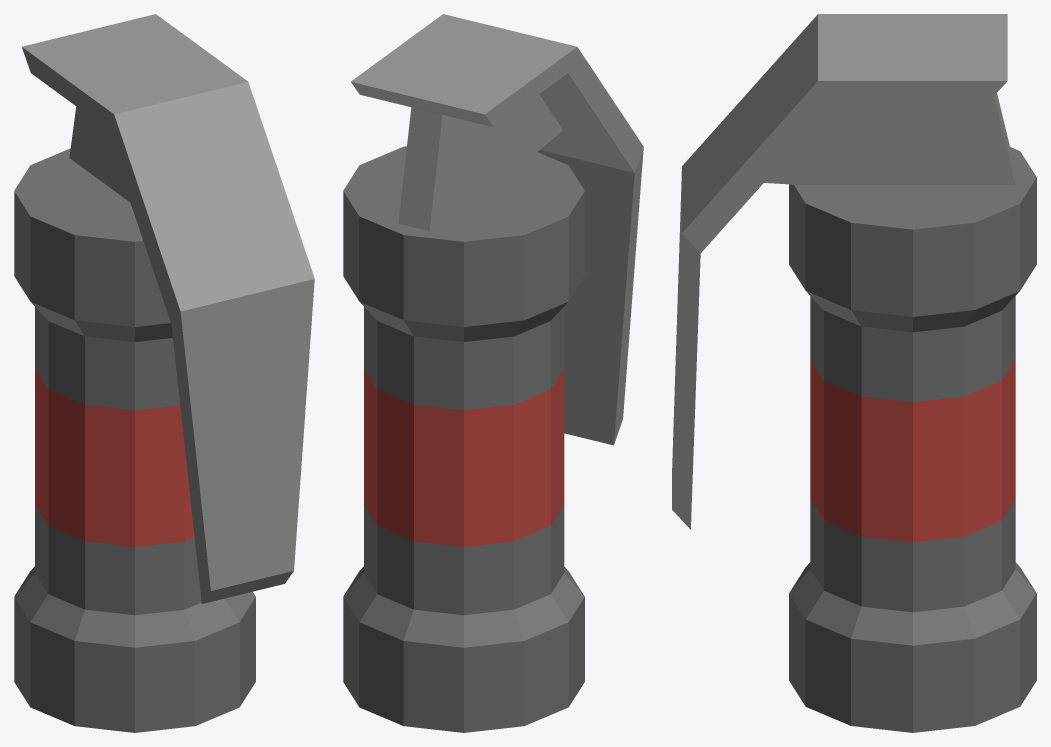
File: FlashBang.fbx
The picture shows the model from 3 angles, left to right: view 1: azimuth 30°, elevation 25°; view 2: azimuth 150°, elevation 25°; view 3: azimuth 270°, elevation 25°; orthographic projection. The views are drawn at different scales.
Visible parts, largest first — view 1: Cylinder; view 2: Cylinder; view 3: Cylinder.
Boxes of the visible parts, x1=… form: Cylinder: x1=14, y1=14, x2=314, y2=732; Cylinder: x1=343, y1=14, x2=643, y2=732; Cylinder: x1=672, y1=14, x2=1036, y2=732.
Size of the model in its own units: 241 by 680 by 355.
